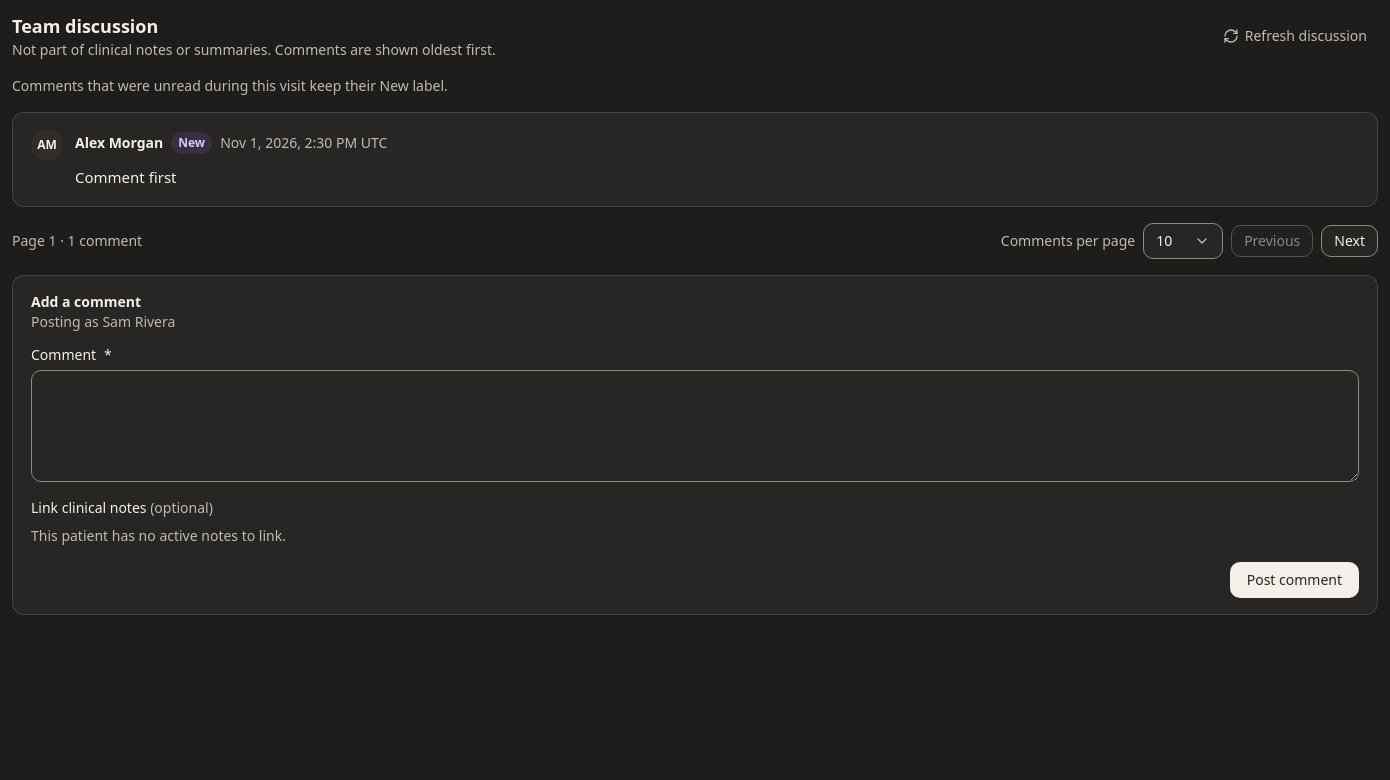
Scenario: displayed discussion acknowledgments › uses a replacement first-page cursor after mutation refetch and preserves the unsent composer
Step 1. Click the button "Next" → (1350, 241), box left=1321, top=225, right=1378, bottom=257
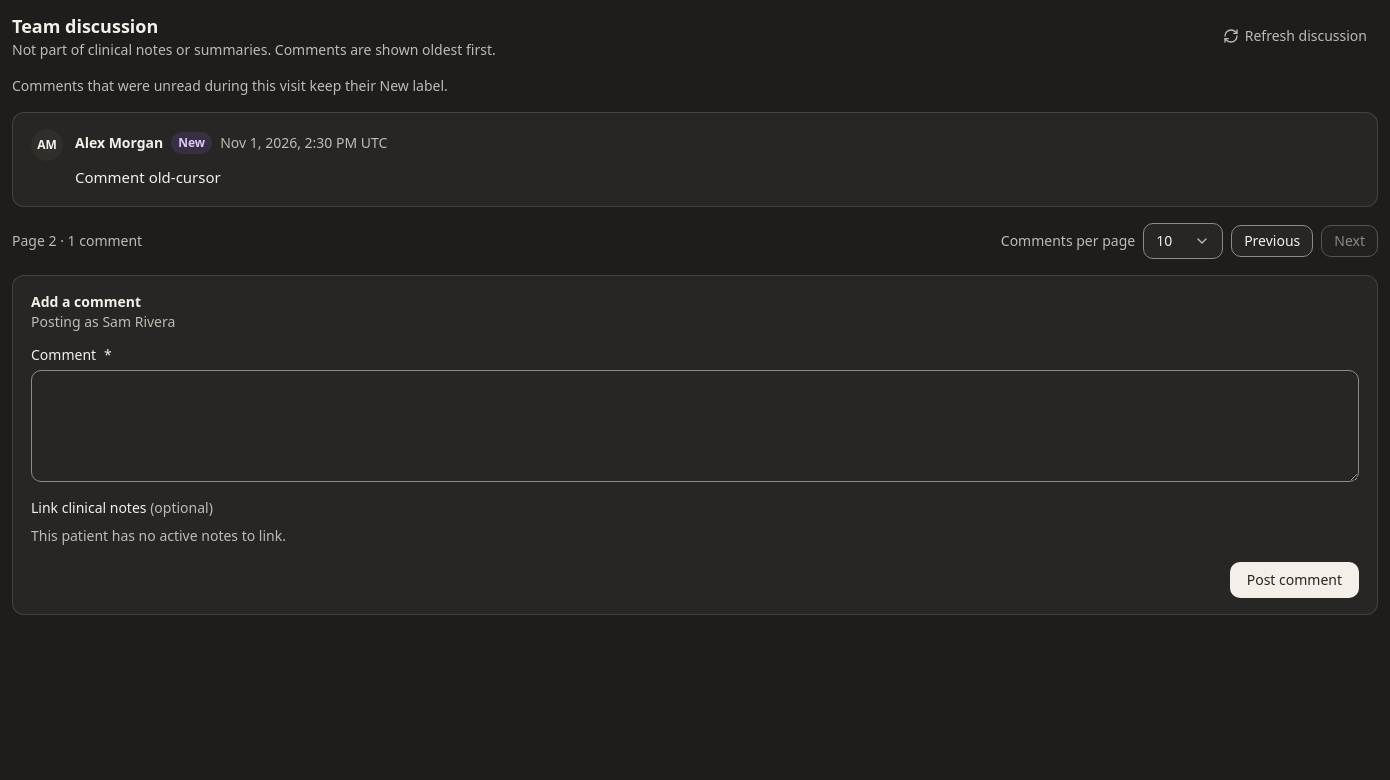
Result: the text "Comment old-cursor" is shown at left=75, top=167, right=221, bottom=187
Step 2. Click the button "Previous" → (1272, 241), box left=1231, top=225, right=1313, bottom=257
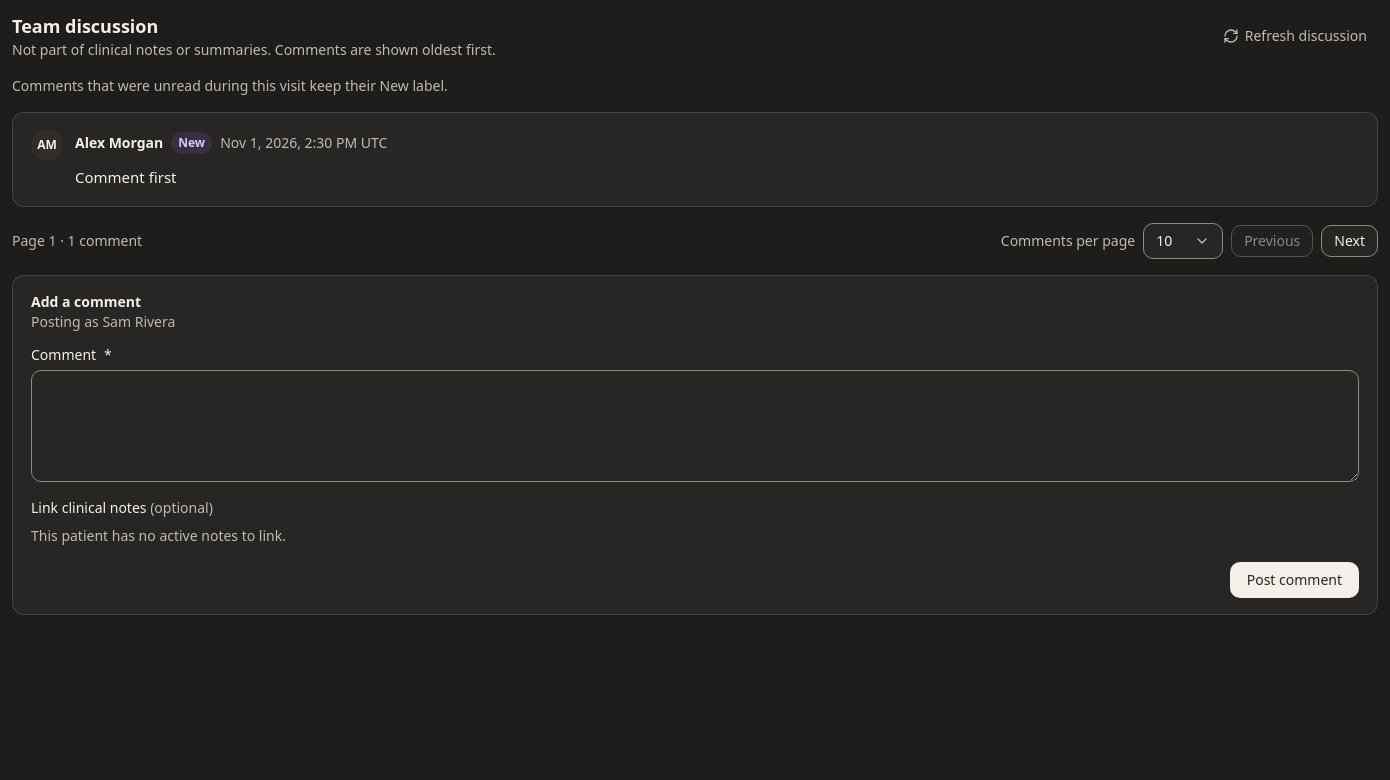
Step 3. Type "Keep this unsent draft" into the text box labelled "Comment *" → (695, 426), box left=31, top=370, right=1359, bottom=482
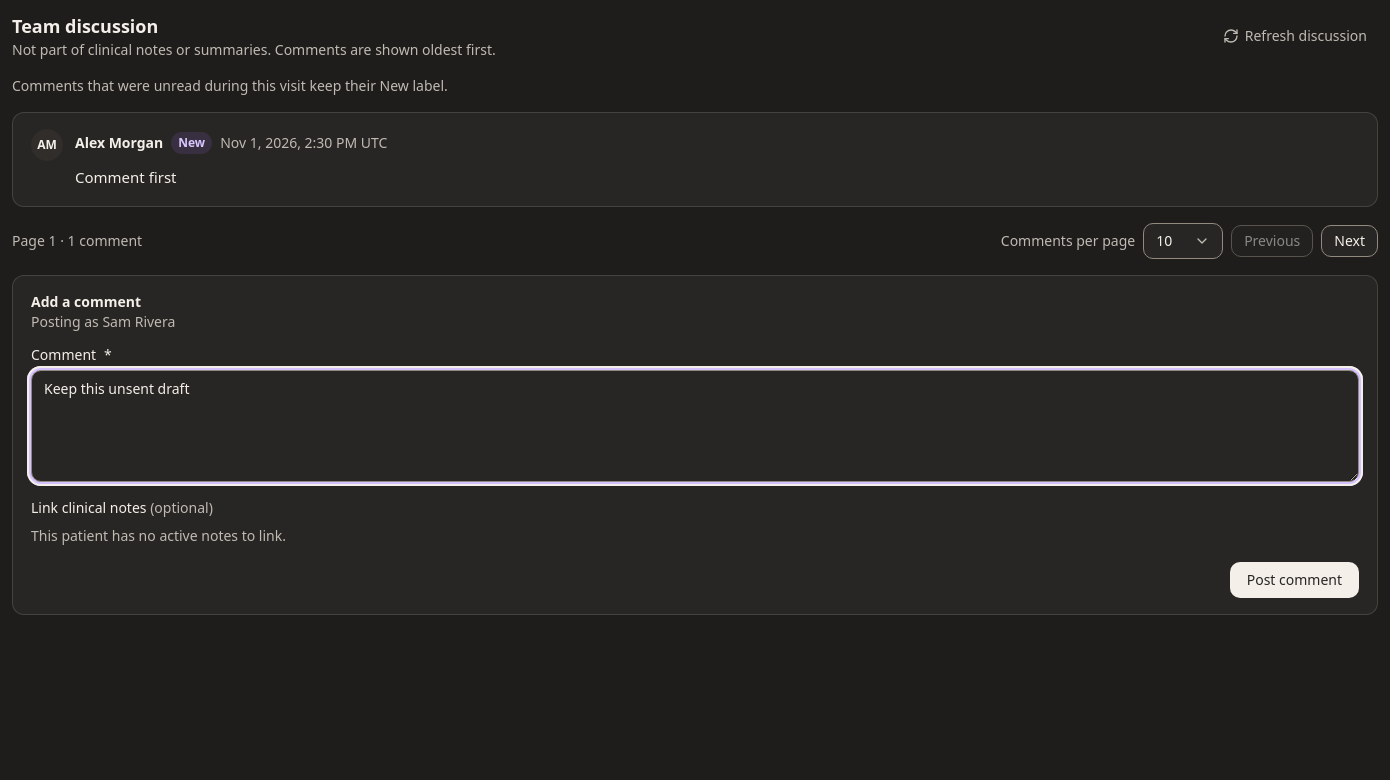
Result: the button "Next" is enabled
Result: the text "Comment first" is shown at left=75, top=167, right=176, bottom=187
Step 4. Click the button "Next" → (1350, 241), box left=1321, top=225, right=1378, bottom=257
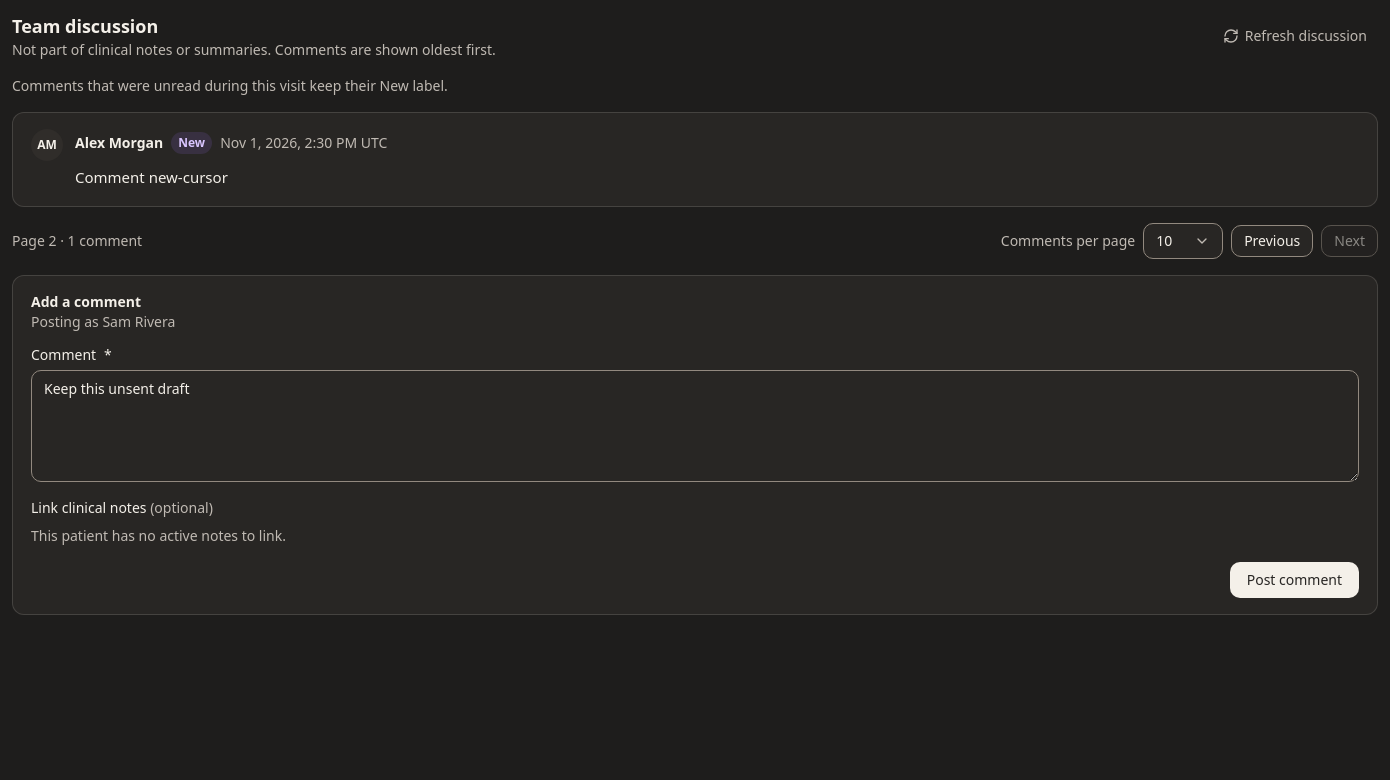
Result: the text "Comment new-cursor" is shown at left=75, top=167, right=228, bottom=187
Step 5. Click the button "Refresh discussion" → (1295, 36), box left=1212, top=20, right=1378, bottom=52
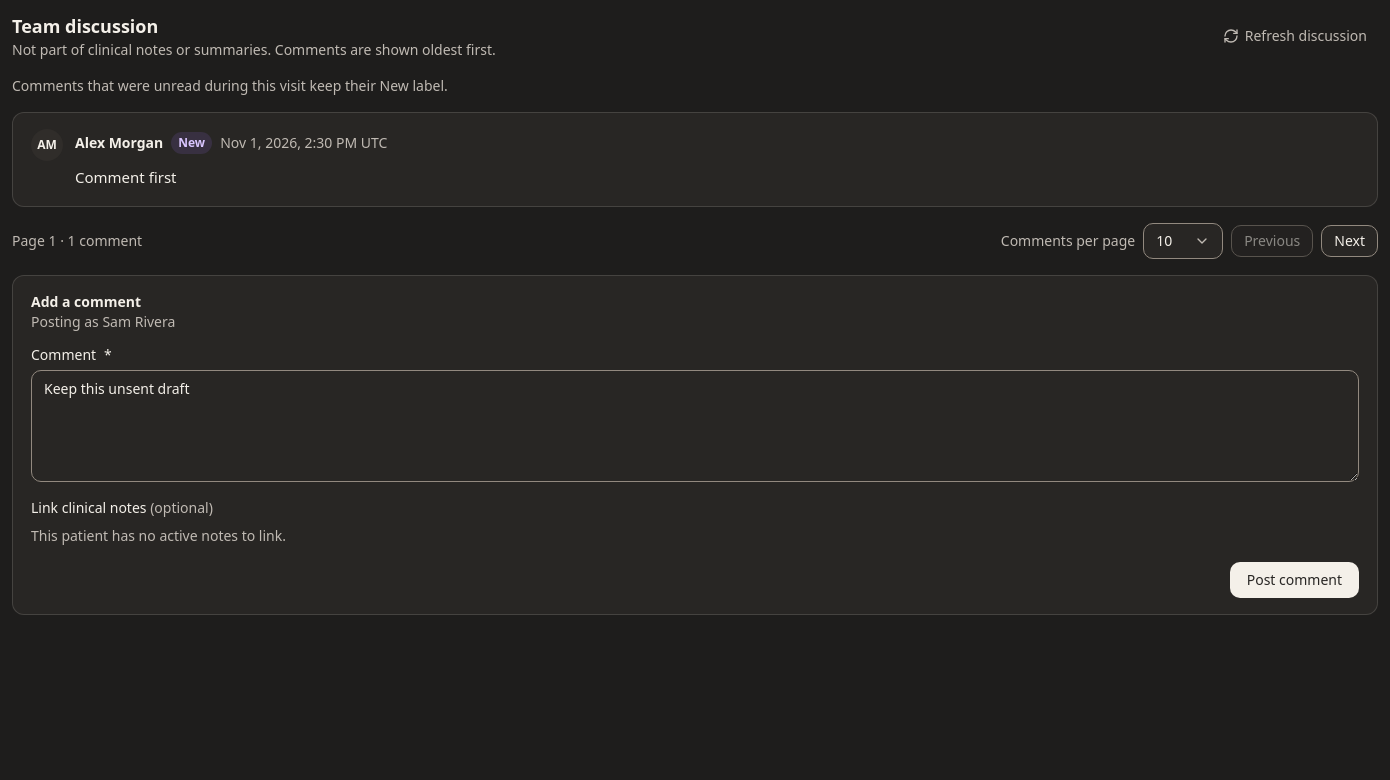
Result: the text "Comment first" is shown at left=75, top=167, right=176, bottom=187
Result: the button "Previous" is disabled at left=1231, top=225, right=1313, bottom=257
